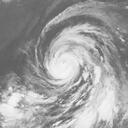cyclone: (38, 24, 96, 88)
